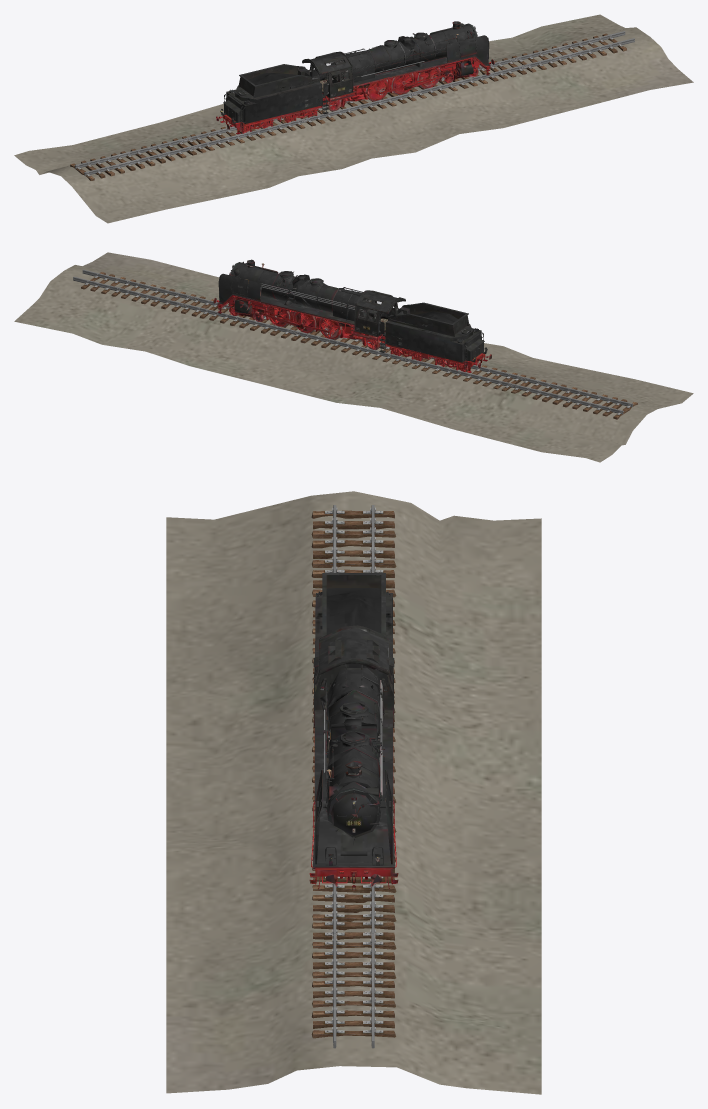
Rendered from oe-loco.glb.
3 views of the same model, one above another, from view 1: azimuth 30°, elevation 25°; view 2: azimuth 150°, elevation 25°; view 3: azimuth 270°, elevation 25° (orthographic). The views are drawn at different scales.
Visible parts, largest first — view 1: booooooden1, comp4, schienestange4, schienestange3, schienestange2, schienestange1, schienestange65, polySurface33, polySurface31; view 2: booooooden1, comp4, schienestange4, schienestange3, schienestange2, schienestange1, schienestange65, polySurface31, polySurface33, polySurface32; view 3: booooooden1, comp4, polySurface33, polySurface30, polySurface18, polySurface21, polySurface20, polySurface22, polySurface23, polySurface19, schienestange4.
Boxes of the visible parts, x1,y1,x2,y2 form: booooooden1: [14, 14, 693, 223]; comp4: [216, 21, 494, 134]; schienestange4: [515, 31, 634, 68]; schienestange3: [75, 138, 194, 175]; schienestange2: [185, 117, 304, 149]; schienestange1: [414, 58, 524, 95]; schienestange65: [304, 89, 414, 122]; polySurface33: [70, 158, 114, 180]; polySurface31: [130, 143, 175, 166]; booooooden1: [14, 252, 693, 462]; comp4: [213, 259, 491, 372]; schienestange4: [73, 269, 192, 307]; schienestange3: [513, 377, 632, 414]; schienestange2: [403, 357, 522, 387]; schienestange1: [183, 296, 302, 333]; schienestange65: [293, 327, 403, 360]; polySurface31: [532, 382, 577, 404]; polySurface33: [593, 397, 637, 419]; polySurface32: [501, 374, 546, 396]; booooooden1: [166, 491, 541, 1094]; comp4: [309, 573, 398, 890]; polySurface33: [311, 507, 395, 538]; polySurface30: [311, 537, 396, 567]; polySurface18: [312, 891, 396, 921]; polySurface21: [312, 919, 396, 949]; polySurface20: [312, 948, 396, 978]; polySurface22: [311, 1007, 395, 1038]; polySurface23: [312, 977, 395, 1007]; polySurface19: [312, 867, 396, 892]; schienestange4: [333, 934, 374, 1048].
Bounding box in the file's own units: 25.18 × 3.08 × 6.98.
12 materials, 12 textured.
